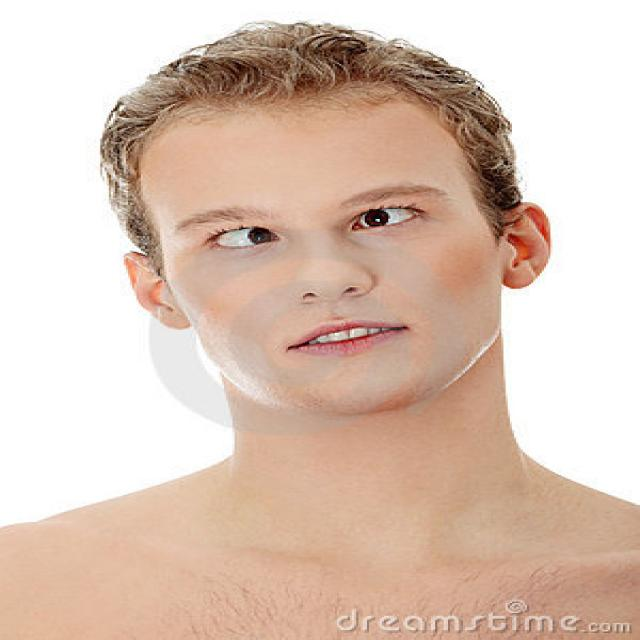Squint: (194, 213, 304, 267), (329, 198, 448, 246)
